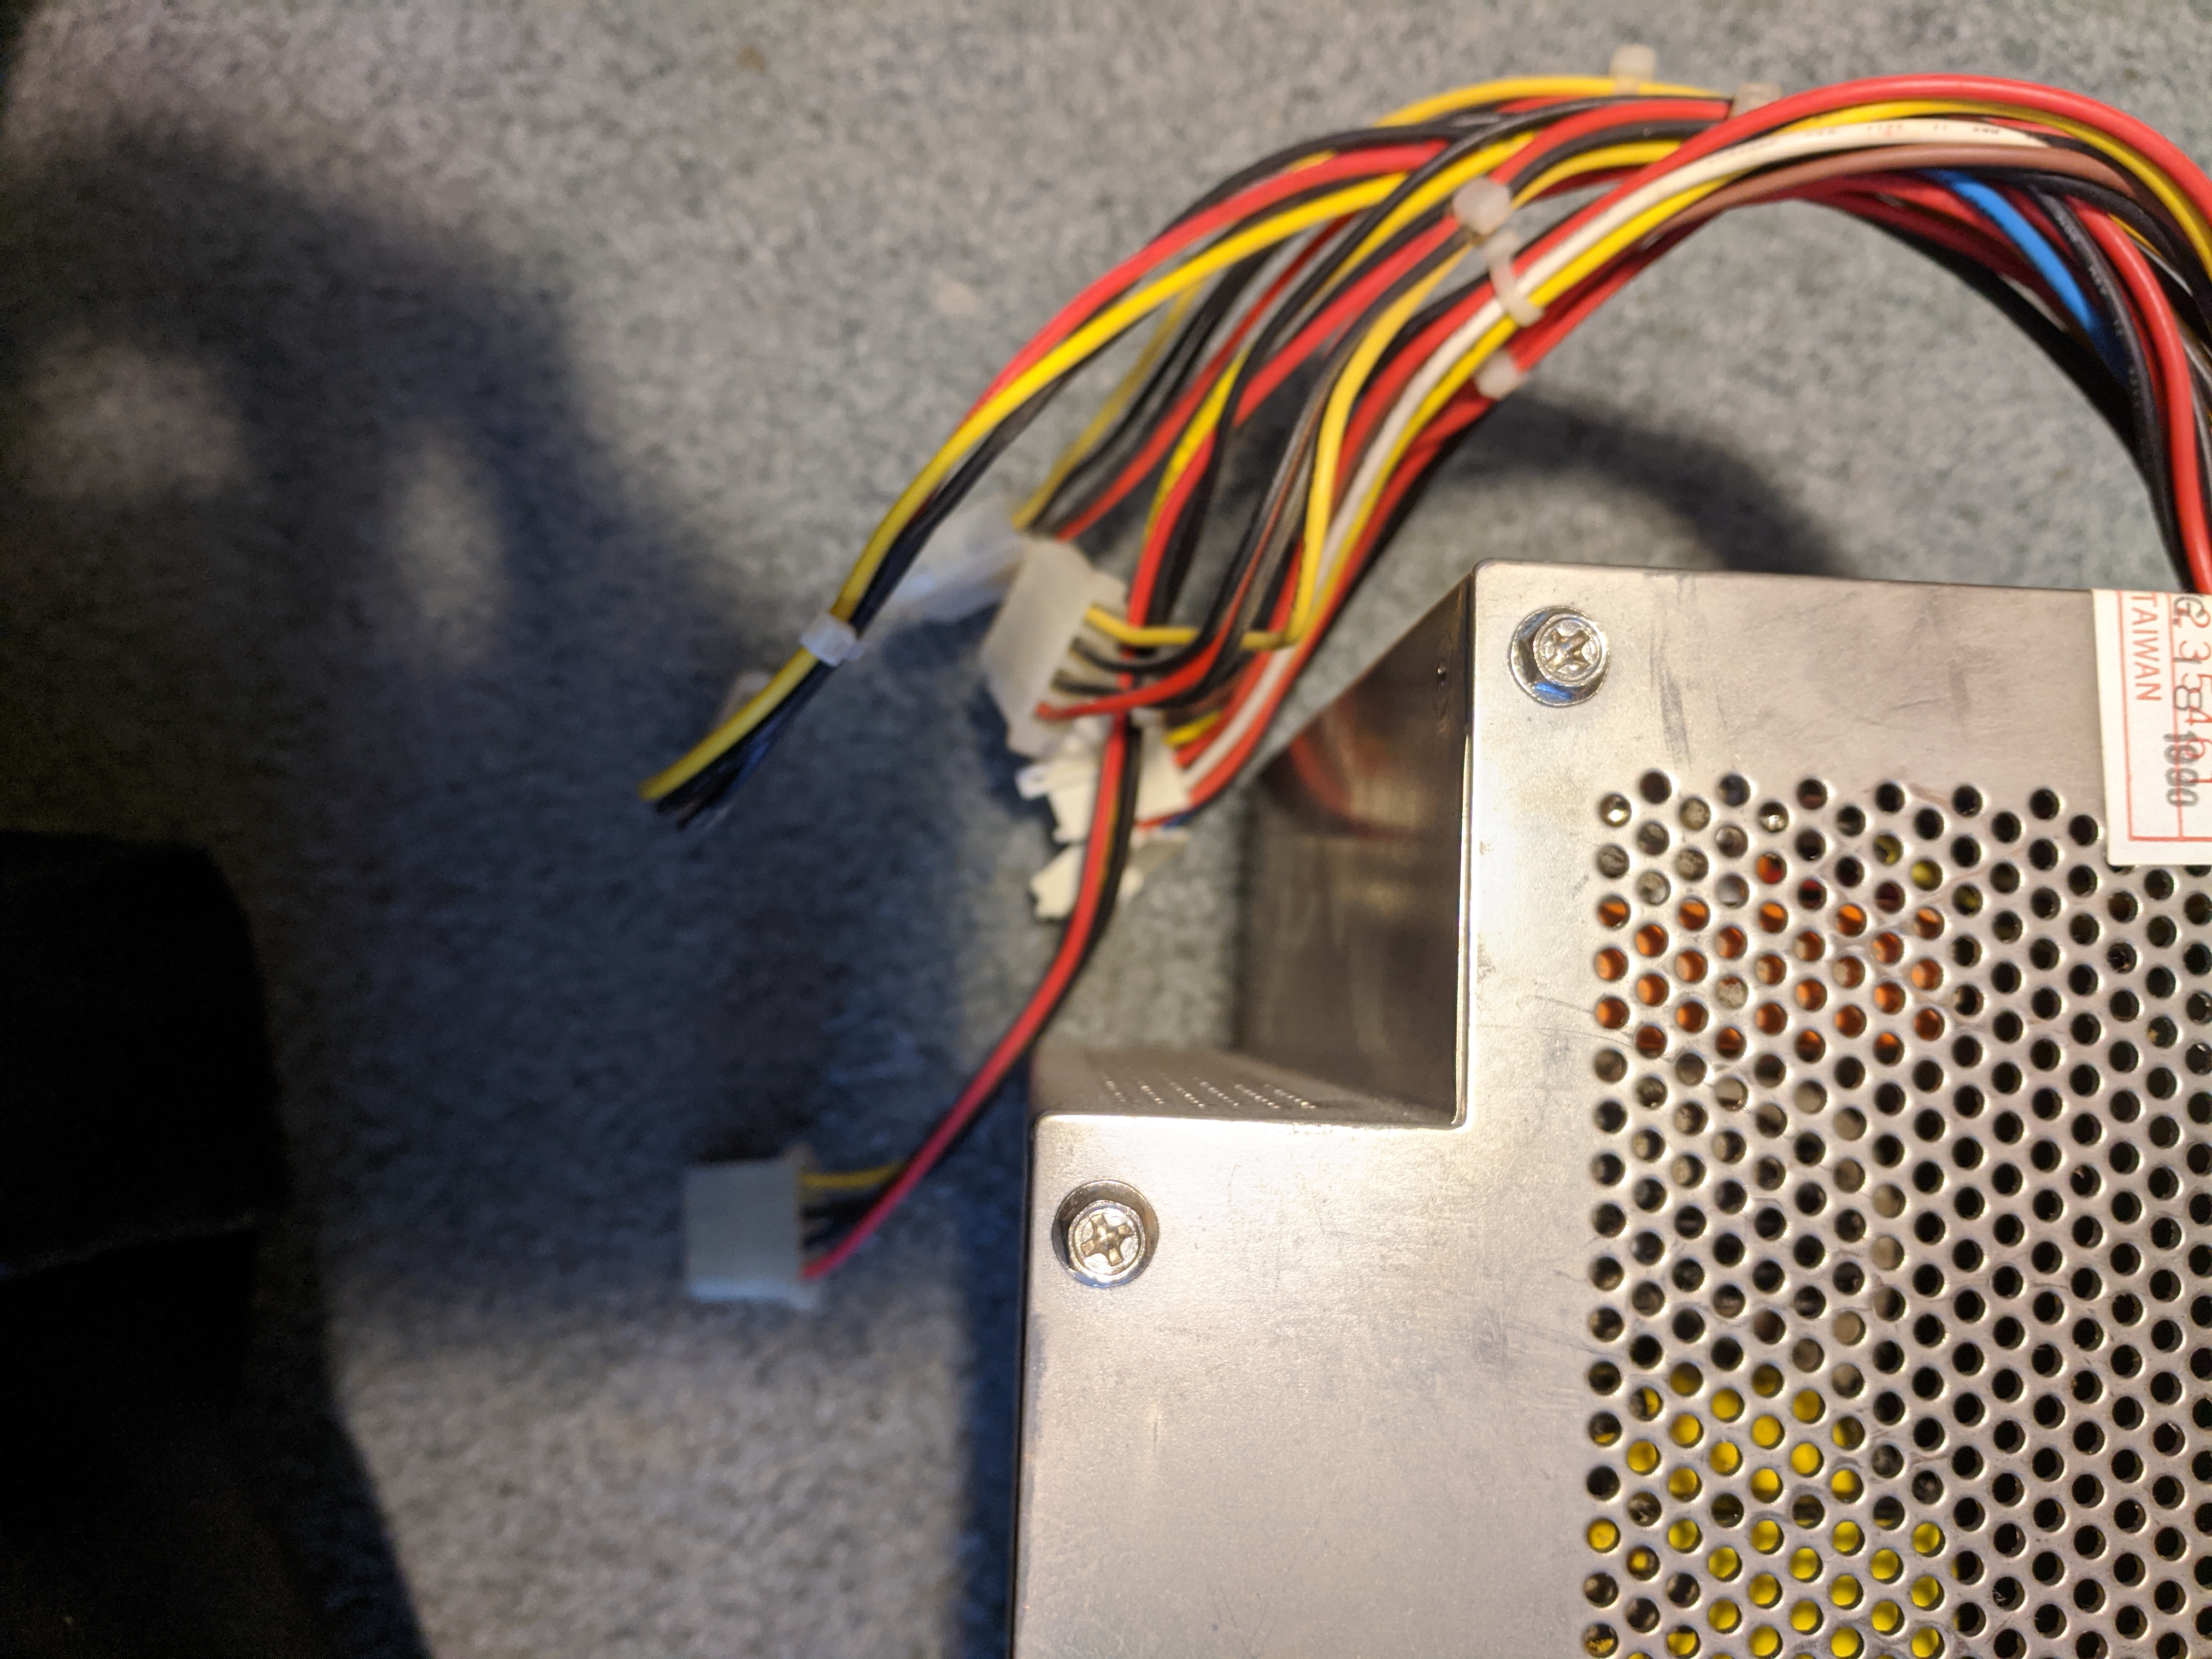cross_recessed_screw: (1052, 1185, 1157, 1283), (1521, 606, 1611, 702)
